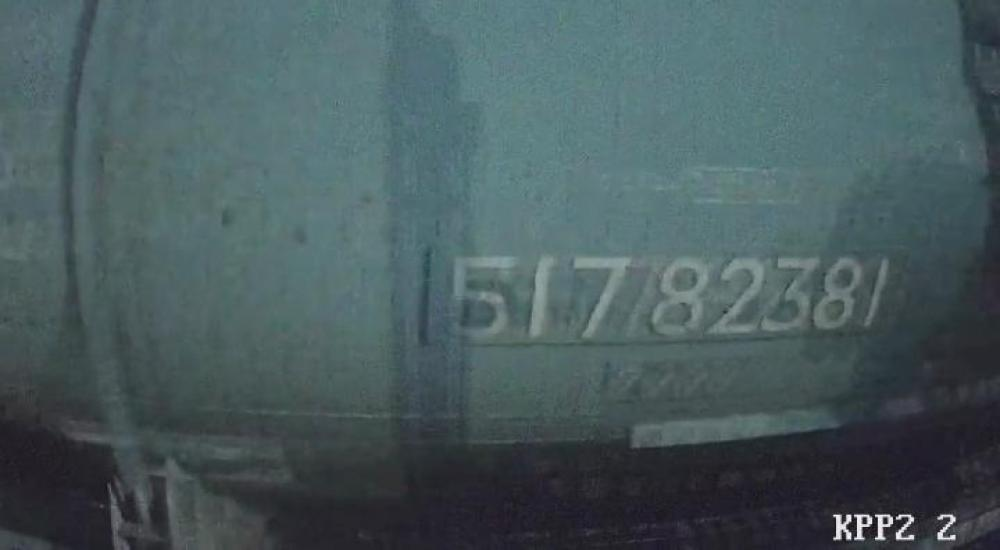Wagon-number: (428, 243, 896, 347)
